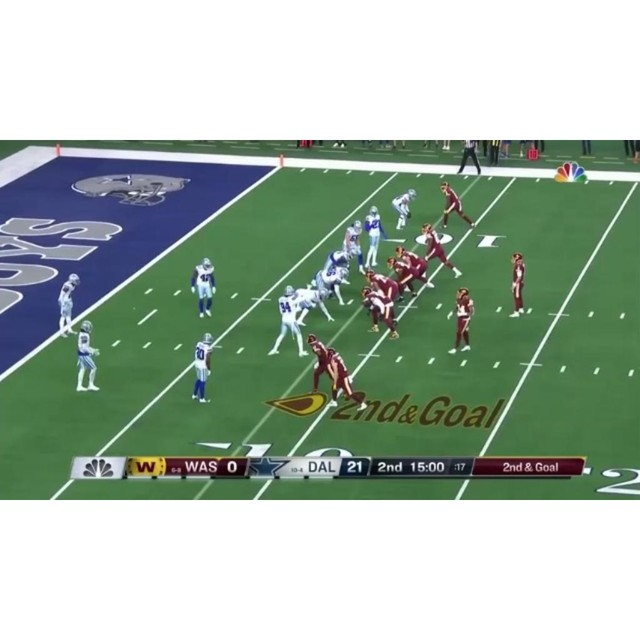american-football-player: (267, 286, 307, 357), (326, 348, 368, 409), (421, 222, 463, 278), (361, 285, 400, 340), (74, 321, 101, 392), (306, 333, 336, 395), (448, 287, 475, 354), (396, 245, 436, 290), (290, 286, 334, 325), (440, 181, 475, 229), (191, 334, 215, 403), (312, 266, 351, 306), (191, 257, 216, 318), (58, 273, 80, 336), (386, 256, 418, 299), (363, 206, 384, 268), (364, 268, 400, 302), (509, 252, 528, 316), (344, 220, 367, 272), (392, 188, 417, 230), (326, 248, 357, 274)
referee: (456, 140, 482, 176)
